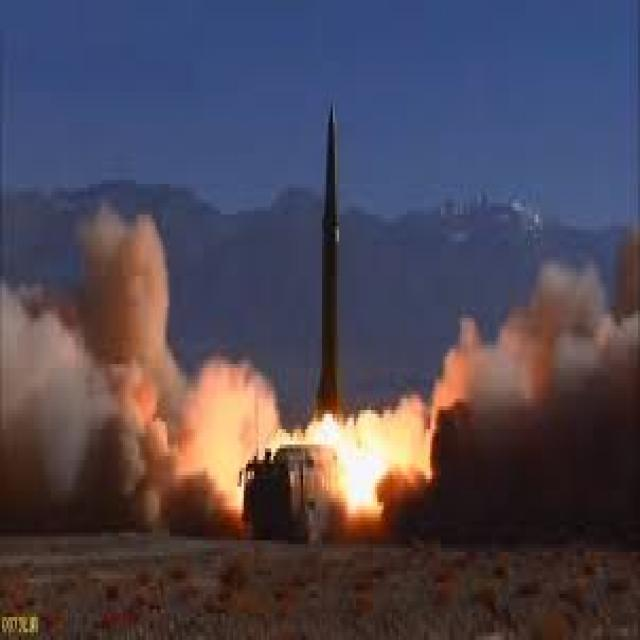missile: (319, 92, 344, 418)
